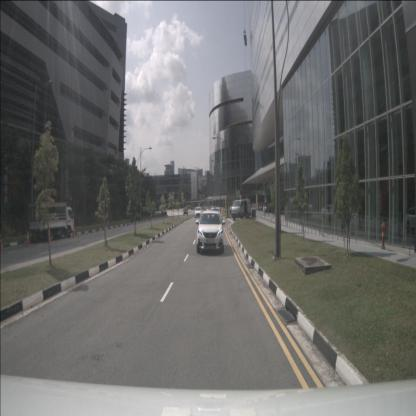cone: (47, 228, 52, 243), (26, 230, 30, 248), (0, 234, 4, 250), (72, 226, 76, 238)
